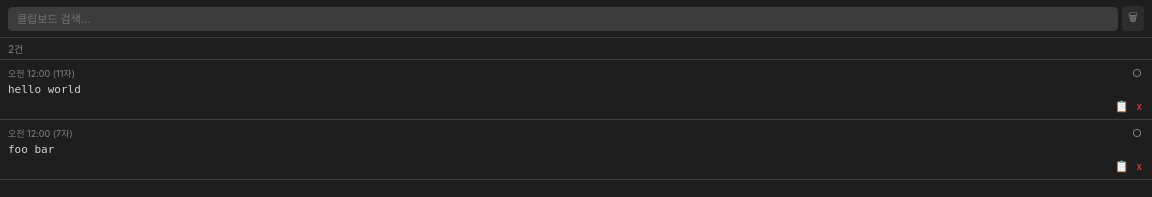
Scenario: ClipboardPanel › 검색어 입력 시 텍스트로 필터링된다
Type "hello" into the field with placeholder "클립보드 검색..." at coordinates (563, 18), box left=8, top=6, right=1118, bottom=30
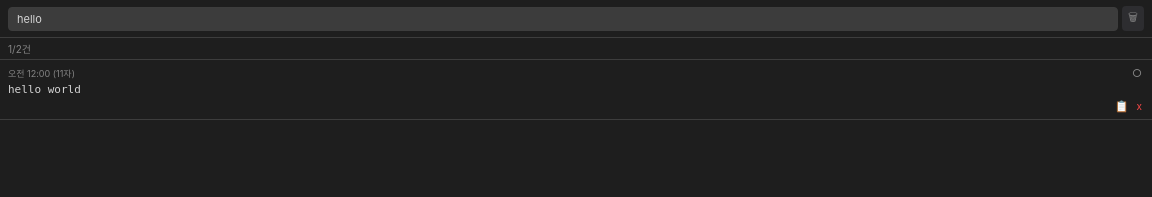
Expected: the text "hello world" is shown, left=8, top=83, right=81, bottom=96
Expected: the text "foo bar" is gone
